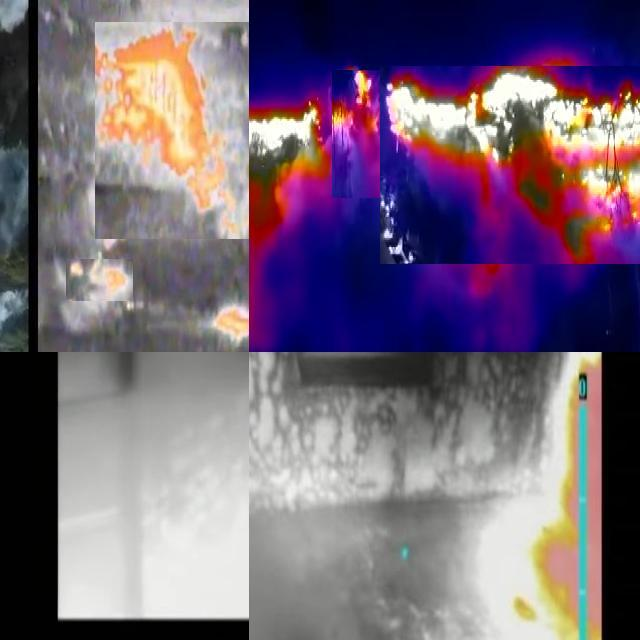fire: (381, 67, 640, 265), (96, 23, 250, 240), (540, 353, 606, 640), (250, 98, 330, 241), (333, 71, 381, 199), (67, 260, 134, 302), (216, 289, 250, 349)
